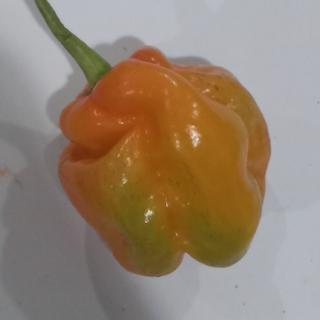Grade-B: (51, 40, 280, 277)
